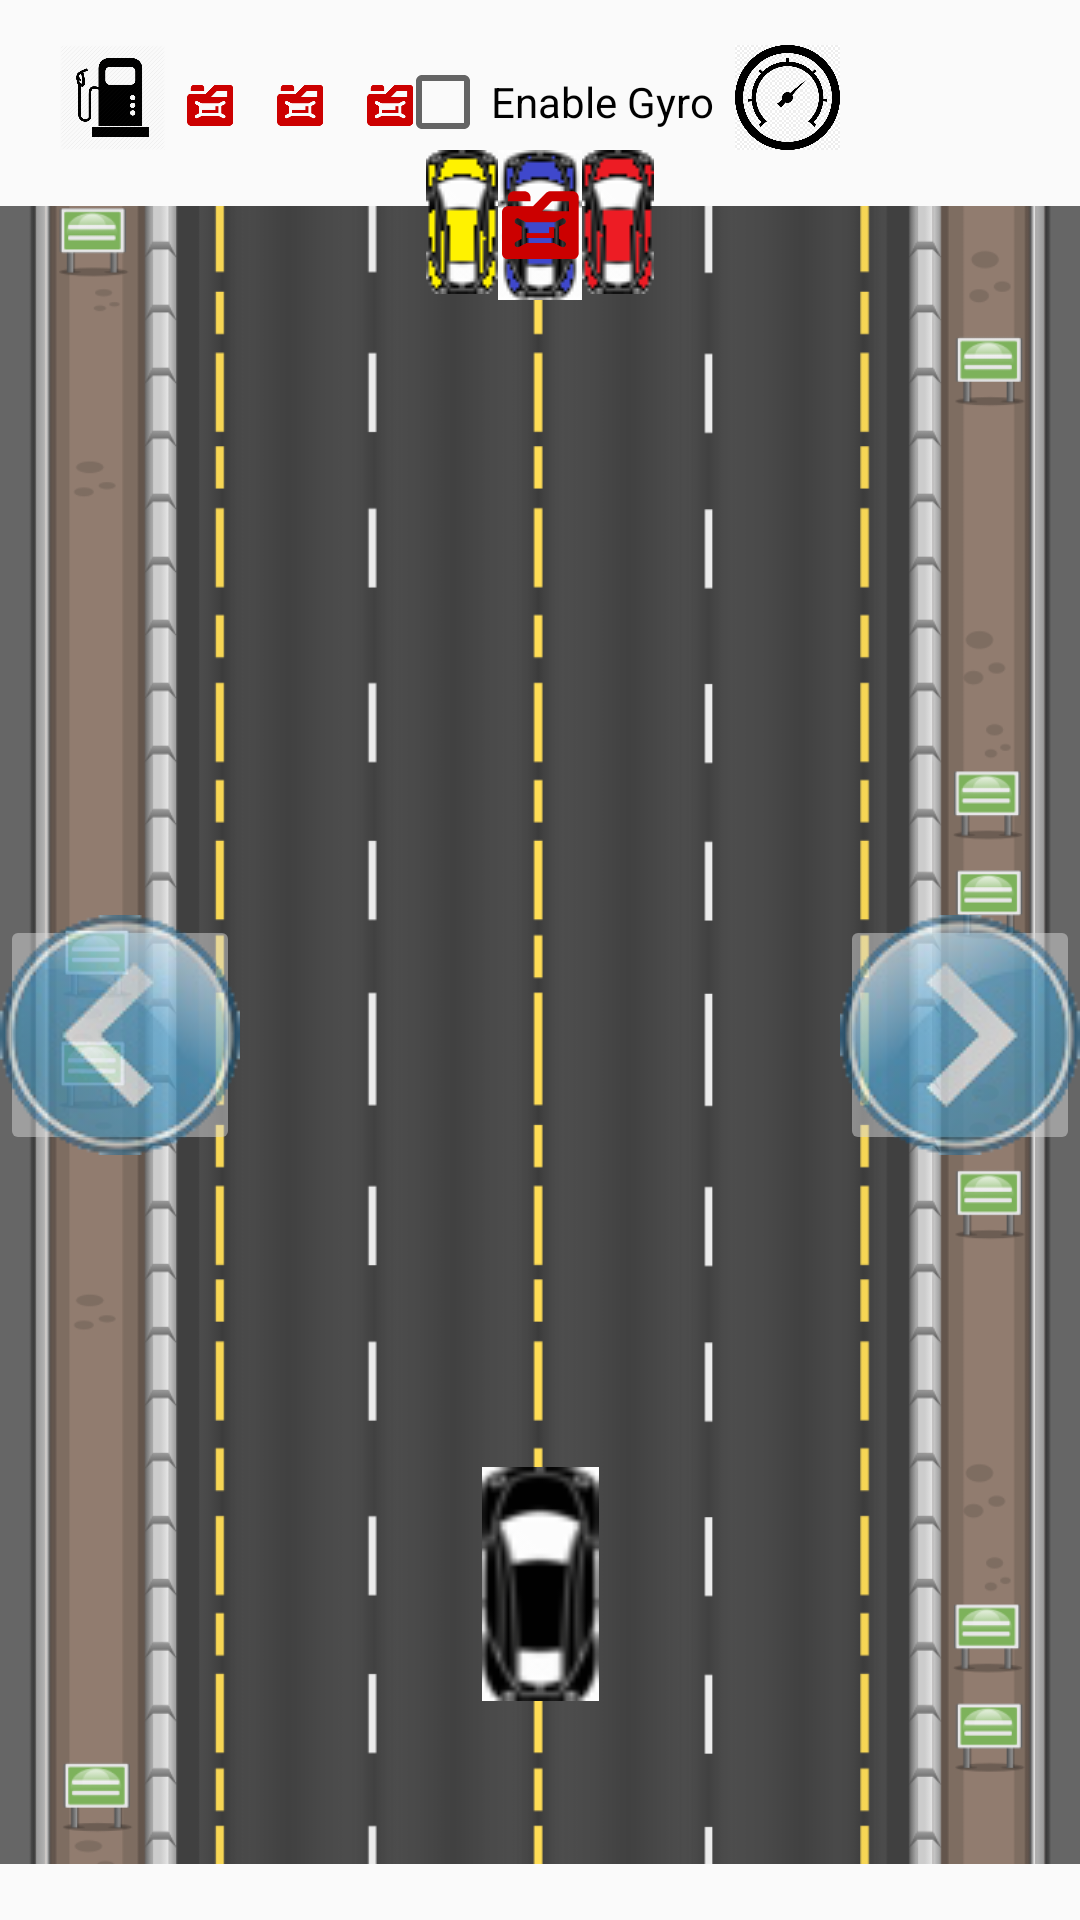

Screen size 1080px×1920px. Icon name, then its center in pixels as (x,y):
fuel: (112,97)
leftbutton: (120,1035)
rightbutton: (960,1035)
